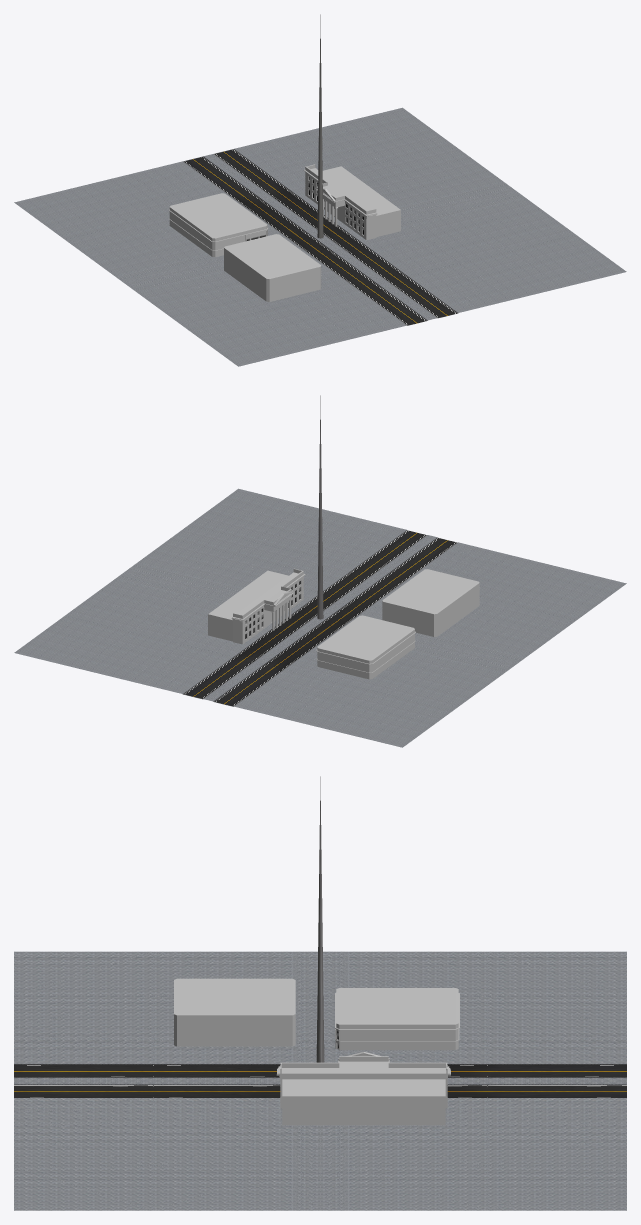
The model's file is O'Connell's street - 6.dae.
3 renders of one model, top to bottom at view 1: azimuth 30°, elevation 25°; view 2: azimuth 150°, elevation 25°; view 3: azimuth 270°, elevation 25°, orthographic. The views are drawn at different scales.
Parts seen in each view (by area): view 1: Street, Sidewalk, Road, Building 2, GPO, Building 1, The Spire; view 2: Street, Sidewalk, Road, Building 2, Building 1, GPO, The Spire; view 3: Street, Sidewalk, Road, GPO, Building 2, Building 1, The Spire.
Boxes of the visible parts, x1,y1,x2,y2 form: Street: (14, 107, 626, 366); Sidewalk: (129, 135, 511, 338); Road: (183, 149, 457, 325); Building 2: (224, 234, 321, 301); GPO: (303, 164, 400, 239); Building 1: (168, 193, 268, 257); The Spire: (317, 14, 323, 238); Street: (14, 488, 626, 747); Sidewalk: (129, 516, 511, 719); Road: (183, 530, 457, 706); Building 2: (382, 569, 479, 636); Building 1: (316, 615, 415, 679); GPO: (208, 568, 305, 644); The Spire: (317, 395, 323, 619); Street: (14, 951, 626, 1210); Sidewalk: (14, 1028, 626, 1133); Road: (14, 1064, 626, 1097); GPO: (276, 1052, 450, 1125); Building 2: (174, 978, 295, 1046); Building 1: (335, 988, 459, 1050); The Spire: (316, 776, 324, 1062).
Bounding box in the file's own units: 2618 × 2618 × 1438.
